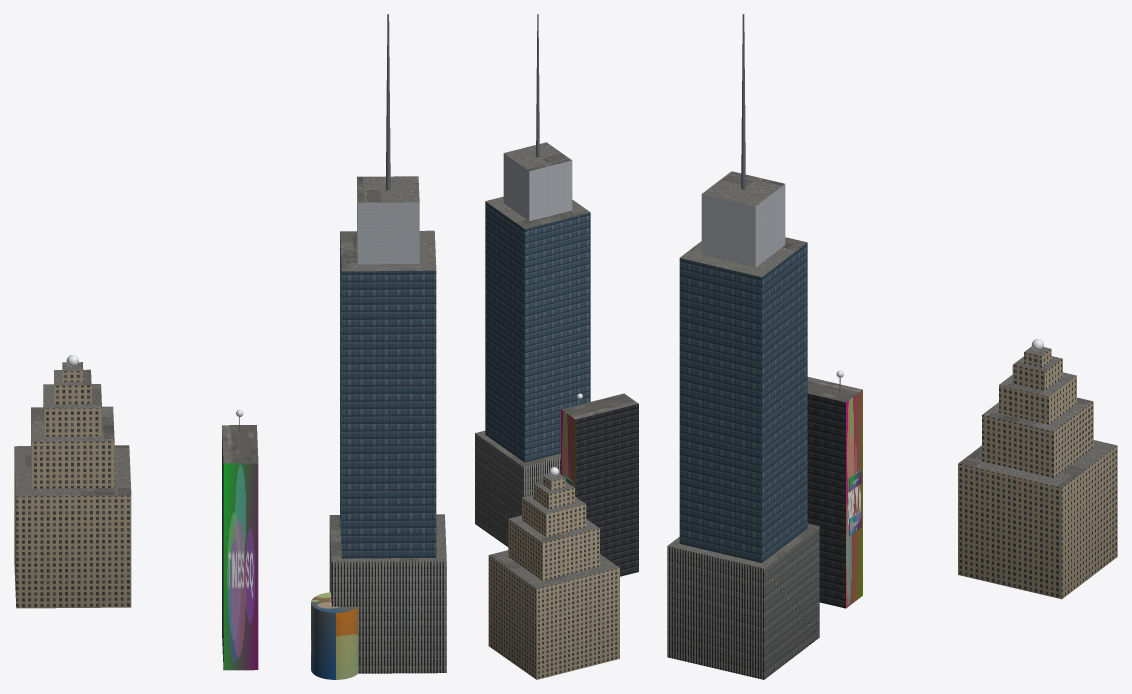
File: tsq.glb
3 renders of one model, left to right at view 1: azimuth 30°, elevation 25°; view 2: azimuth 150°, elevation 25°; view 3: azimuth 270°, elevation 25°, orthographic. The views are drawn at different scales.
Parts seen in each view (by area): view 1: tsq; view 2: tsq; view 3: tsq.
Boxes of the visible parts, <box> form: tsq: <box>14,14,446,679</box>; tsq: <box>475,14,638,679</box>; tsq: <box>667,14,1117,679</box>.
Size of the model in its own units: 170 by 341 by 220.
29 materials, 25 textured.
